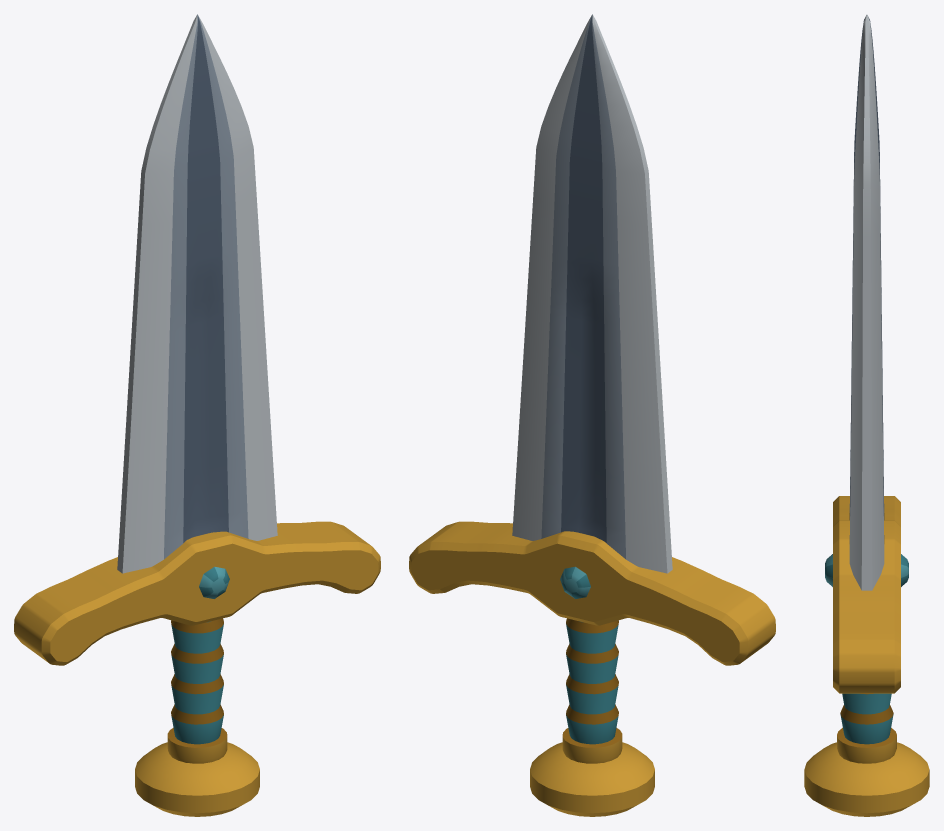
The model's file is Broadsword_04.glb.
The picture shows the model from 3 angles, left to right: view 1: azimuth 30°, elevation 25°; view 2: azimuth 150°, elevation 25°; view 3: azimuth 270°, elevation 25°; orthographic projection.
Parts seen in each view (by area): view 1: Broadsword_04; view 2: Broadsword_04; view 3: Broadsword_04.
Part boxes in pixels (box(x1,y1,x2,y2)): Broadsword_04: box(14, 14, 380, 816); Broadsword_04: box(409, 14, 775, 816); Broadsword_04: box(804, 14, 929, 816).
Size of the model in its own units: 2.76 by 6.09 by 0.8814.
